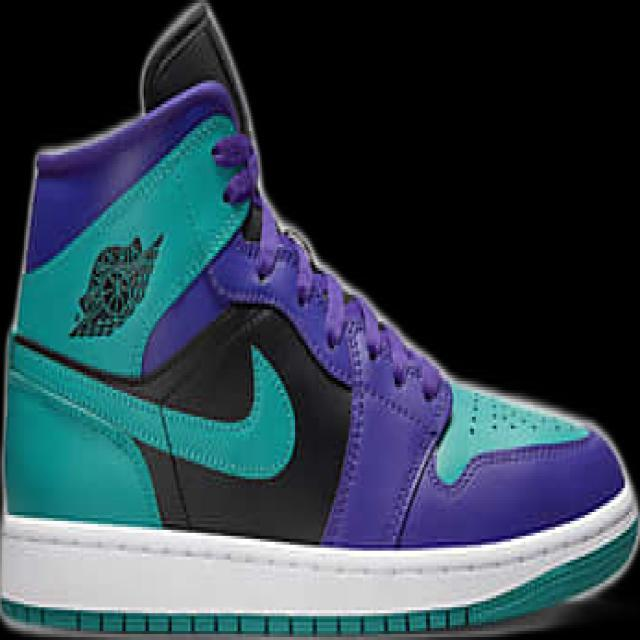J1_InsoleChar: (2, 3, 636, 634)
J1_ShoeLogo: (67, 230, 165, 339)
J1_StitchPattern: (9, 305, 593, 490), (220, 232, 591, 484), (3, 508, 636, 597), (336, 303, 591, 485), (8, 325, 299, 481), (229, 232, 445, 417), (322, 300, 451, 543), (9, 341, 182, 470), (437, 382, 592, 485), (337, 307, 447, 428), (448, 433, 594, 492), (459, 385, 587, 447), (140, 395, 196, 530), (387, 427, 442, 546), (210, 131, 261, 207), (463, 389, 536, 441), (463, 388, 482, 442)
